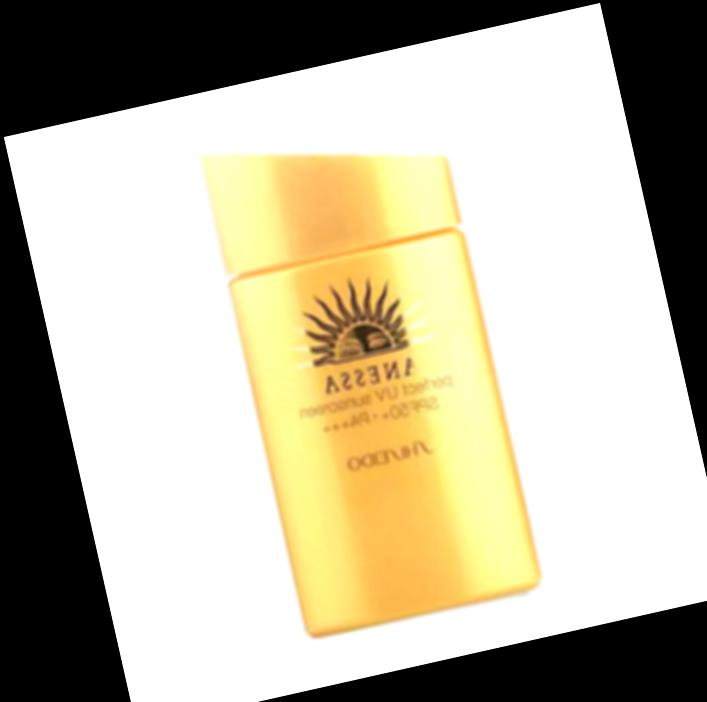cosmetic: (195, 87, 541, 639)
